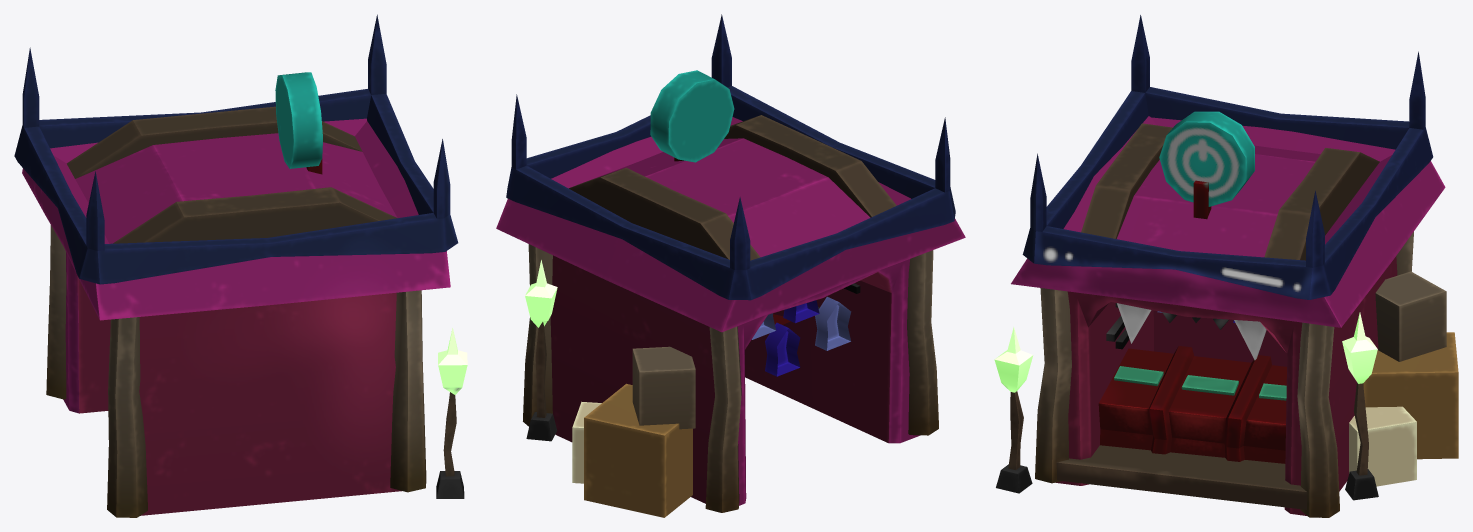
File: modul_funny_1.fbx
3 renders of one model, left to right at view 1: azimuth 30°, elevation 25°; view 2: azimuth 150°, elevation 25°; view 3: azimuth 270°, elevation 25°, orthographic. The views are drawn at different scales.
Visible parts, largest first — view 1: modul_funny_1; view 2: modul_funny_1; view 3: modul_funny_1.
Boxes of the visible parts, box(x1,y1,x2,y2) form: modul_funny_1: box(14, 14, 467, 517); modul_funny_1: box(496, 14, 965, 517); modul_funny_1: box(994, 15, 1458, 517).
Size of the model in its own units: 938 by 821 by 977.
Materials: 1 (1 with a texture image).
